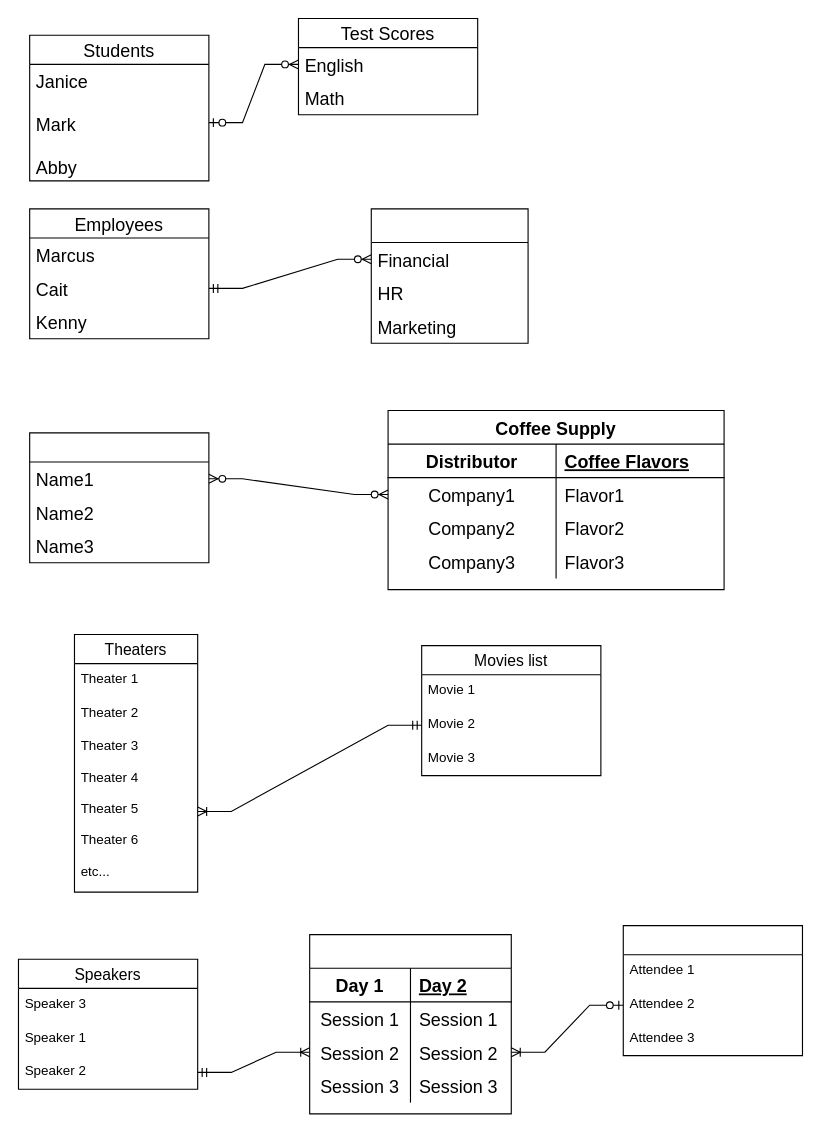
Image size: 821x1132. Some labels were removed from this diagram. The shapes that lost their labels are listed below. From the top down, each one's box as (x1, y1, x2, y2) in pixels, then its label:
(370, 208, 528, 343): Department
(29, 432, 209, 563): Coffee Buyers
(622, 925, 802, 1056): Attendees
(309, 934, 511, 1114): Attendable Days
